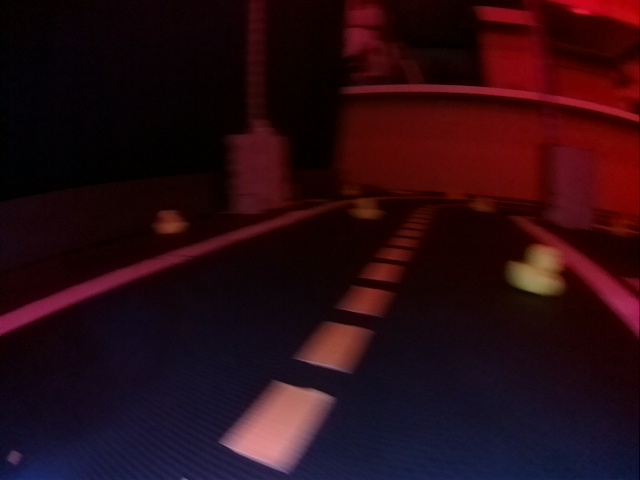Duckie: (505, 247, 565, 297), (155, 209, 186, 234), (350, 200, 380, 219)
